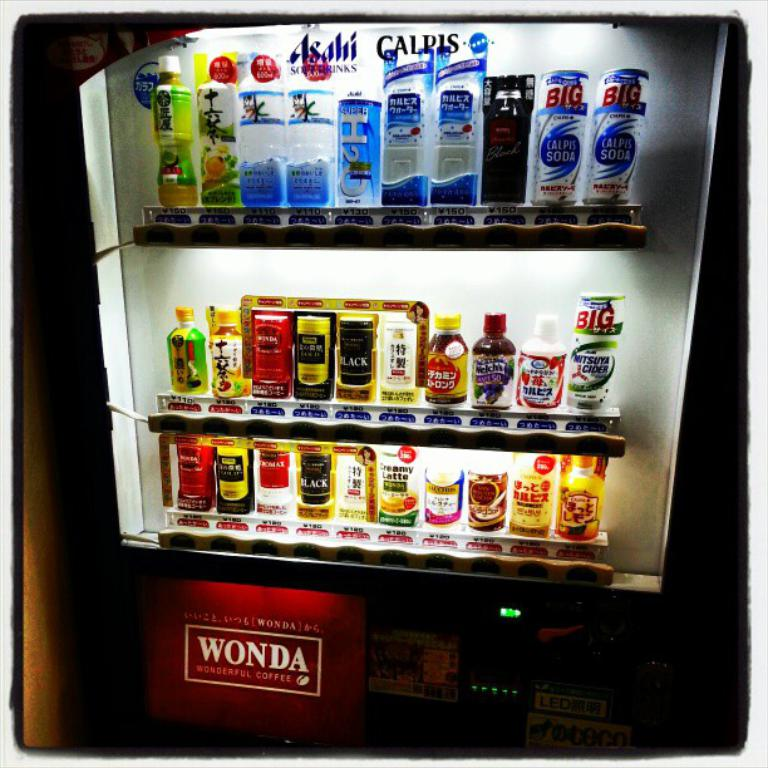refrigerator door: (86, 80, 671, 594)
